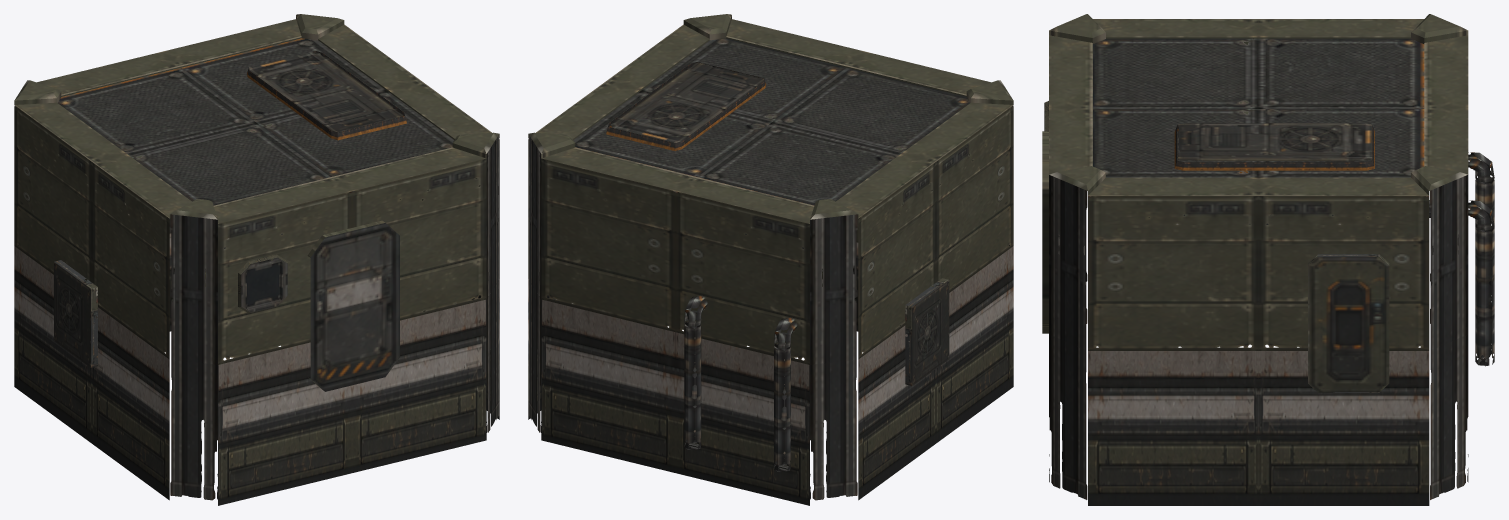
3 renders of one model, left to right at view 1: azimuth 30°, elevation 25°; view 2: azimuth 150°, elevation 25°; view 3: azimuth 270°, elevation 25°, orthographic. The views are drawn at different scales.
Parts seen in each view (by area): view 1: casa_storehouse.001; view 2: casa_storehouse.001; view 3: casa_storehouse.001.
Boxes of the visible parts, bbox=[...] form: casa_storehouse.001: bbox=[14, 14, 499, 505]; casa_storehouse.001: bbox=[528, 14, 1013, 505]; casa_storehouse.001: bbox=[1042, 14, 1494, 505].
Size of the model in its own units: 13.43 by 13.99 by 10.85.
